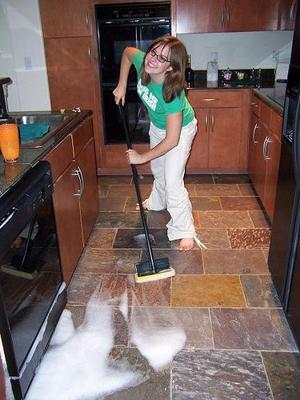person: (111, 36, 200, 254)
